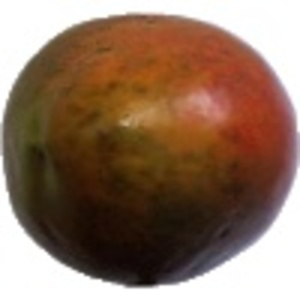manga: (1, 11, 300, 288)
